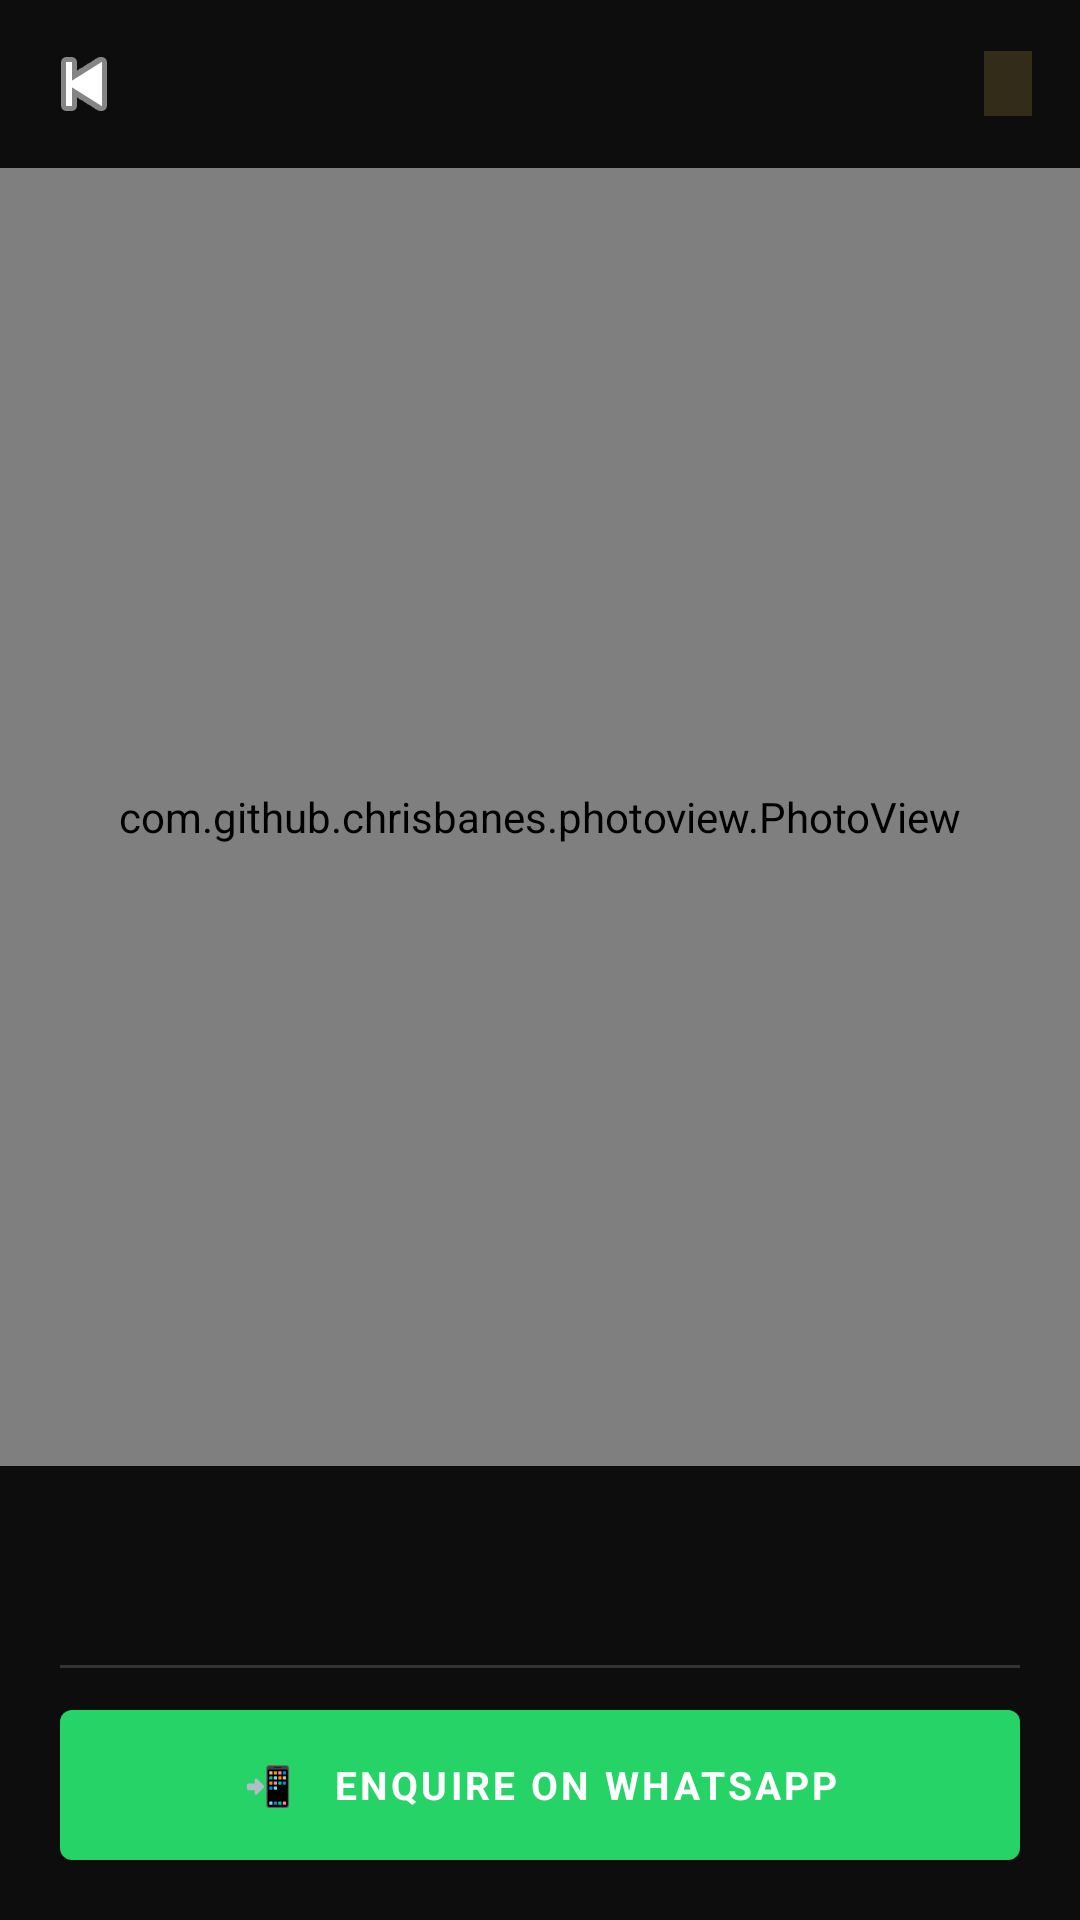

Where icons sit on this 1080 x 1920 app screen, as (x1, y1, x2, y2):
previous: (61, 57, 107, 111)
